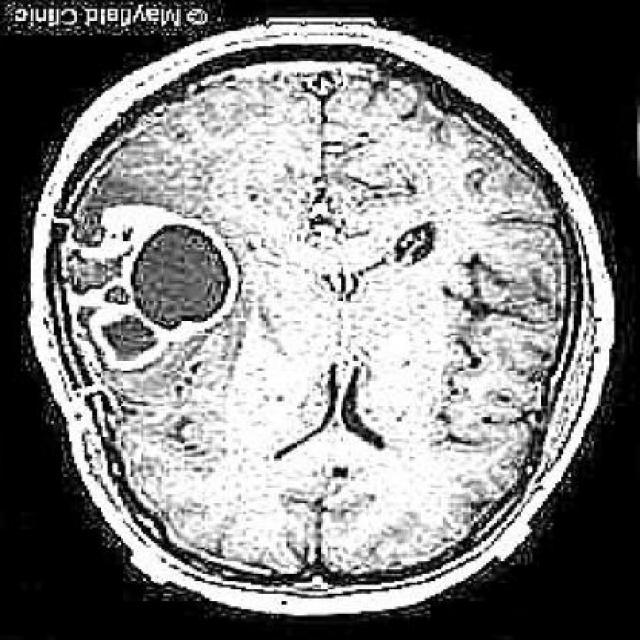Brain-Tumor: (49, 193, 251, 385)
